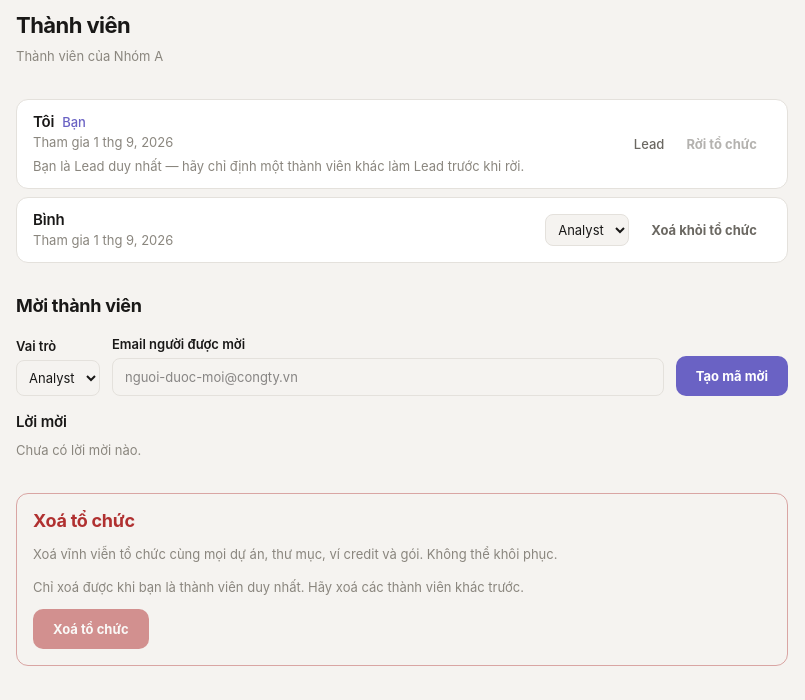
Test: góp ý UI tổ chức (kiểm bằng Playwright 2026-10-04) › tạo mã xong thì nói rõ đã gửi tới email nào
Type "moi@flintflow.test" into the field labelled "Email người được mời" at (388, 377), box [112, 358, 664, 396]
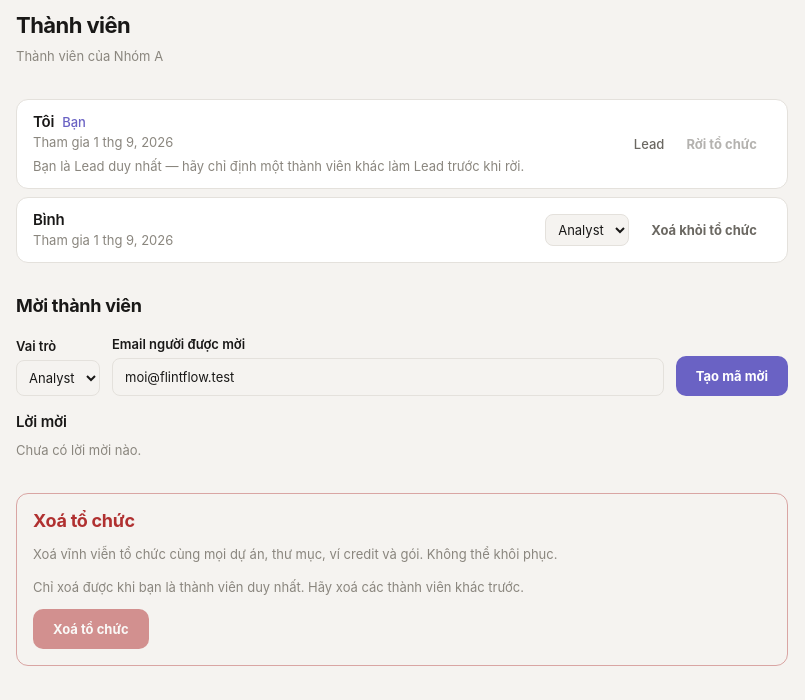
Click the button "Tạo mã mời" at (732, 376), box [676, 356, 788, 396]
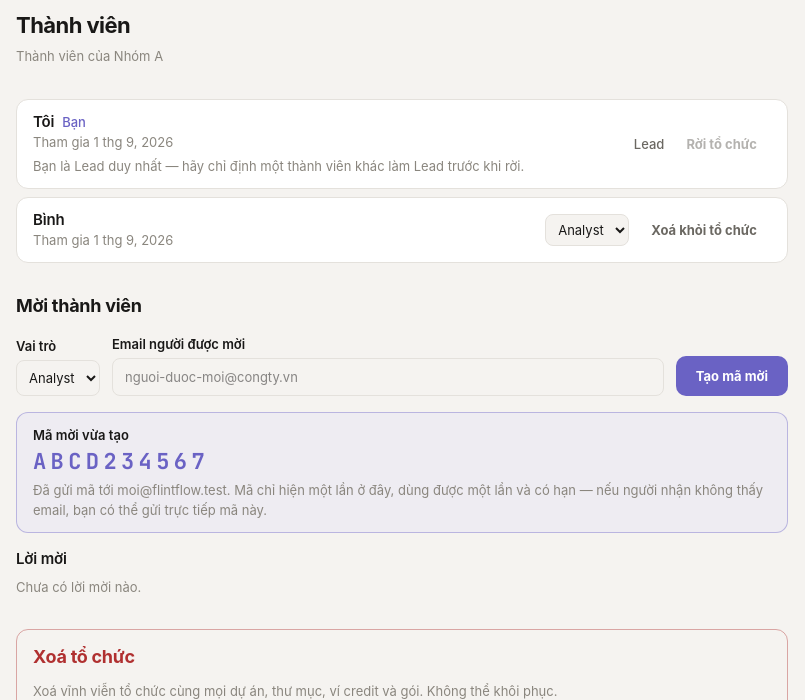
Expected: the text "Đã gửi mã tới moi@flintflow.test" is shown, [33, 482, 763, 518]
